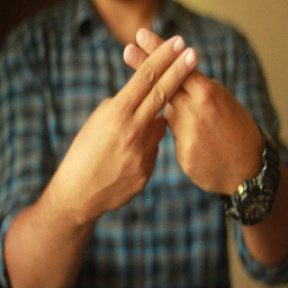F: (101, 22, 222, 152)
